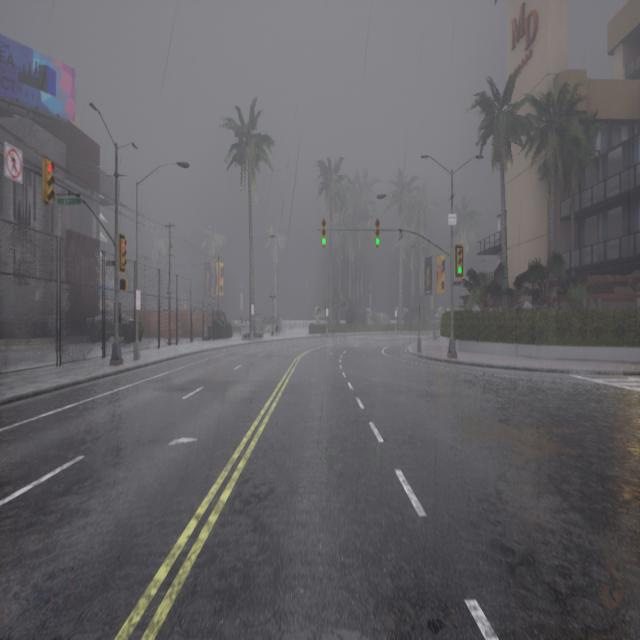6: (46, 159, 54, 173), (121, 238, 126, 249)
9: (41, 157, 56, 206), (119, 232, 127, 272), (455, 245, 464, 278), (320, 217, 328, 252), (374, 216, 382, 249)
bien_hieu_lenh: (320, 236, 328, 248), (456, 264, 463, 275), (375, 237, 380, 246)
